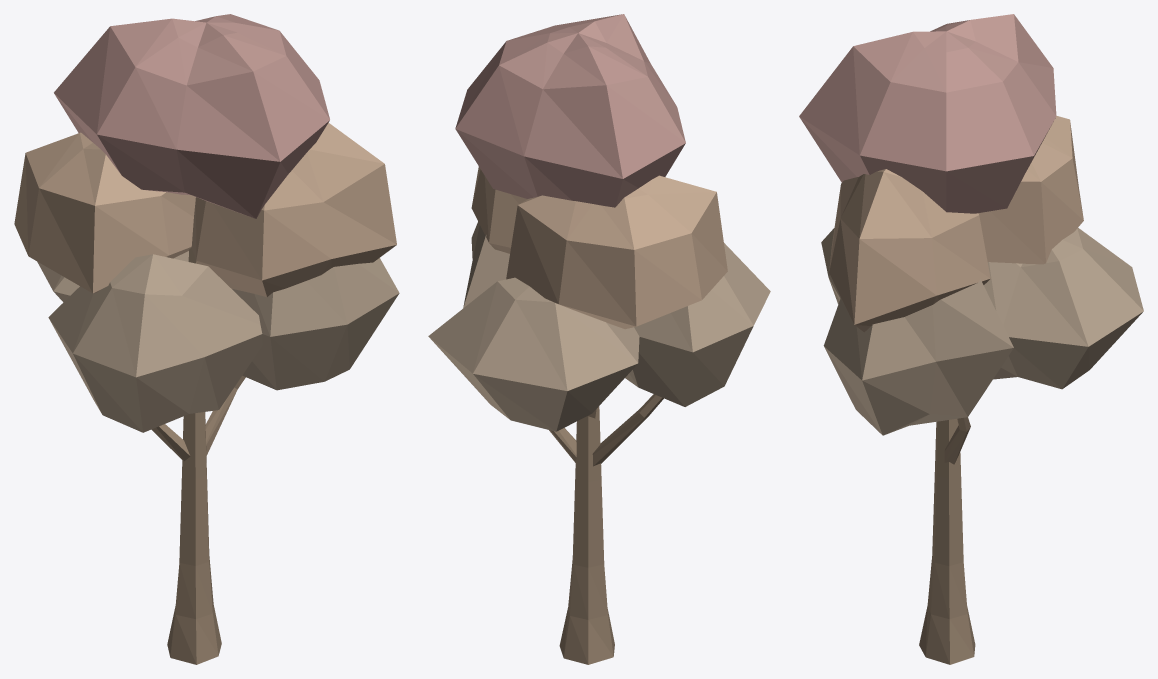
Rendered from maple-tree-65fa12.glb.
3 views of the same model, side by side, from view 1: azimuth 30°, elevation 25°; view 2: azimuth 150°, elevation 25°; view 3: azimuth 270°, elevation 25° (orthographic).
Visible parts, largest first — view 1: maple-tree-mesh; view 2: maple-tree-mesh; view 3: maple-tree-mesh.
Part boxes in pixels (<box>): maple-tree-mesh: <box>14,14,399,664</box>; maple-tree-mesh: <box>428,14,770,664</box>; maple-tree-mesh: <box>799,14,1143,664</box>.
Bounding box in the file's own units: 3.29 × 6.43 × 3.21.
